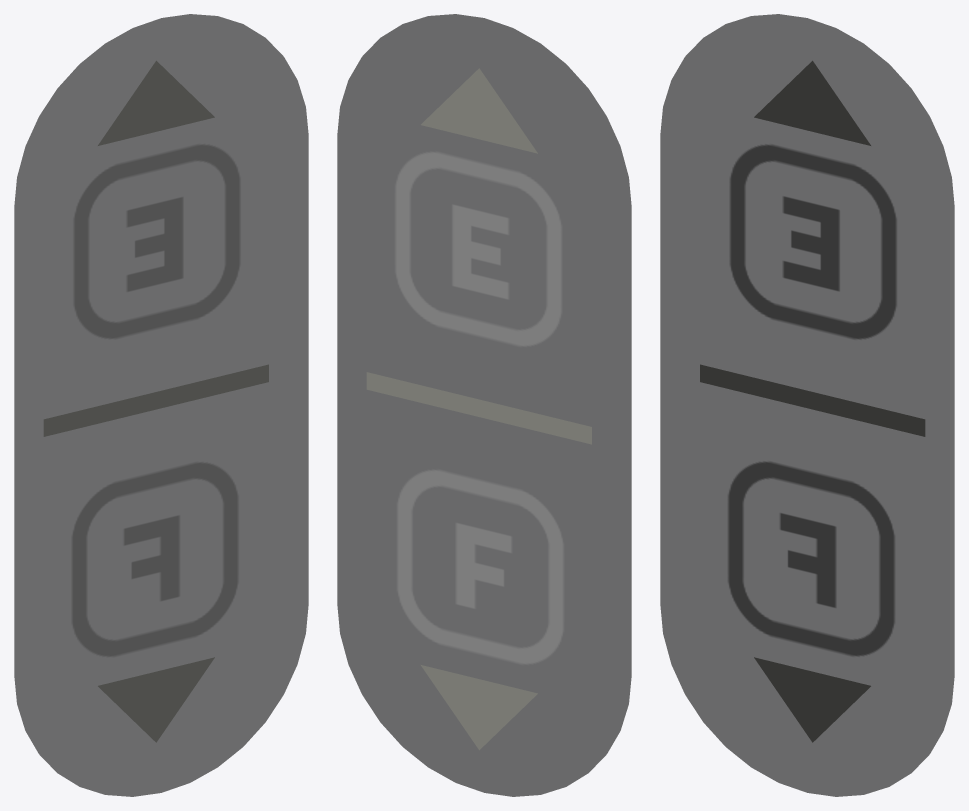
Rendered from scroll_instructions.glb.
3 renders of one model, left to right at view 1: azimuth 30°, elevation 25°; view 2: azimuth 150°, elevation 25°; view 3: azimuth 330°, elevation 25°, orthographic.
Parts seen in each view (by area): view 1: Cylinder.003, Plane.002; view 2: Cylinder.003, Plane.002; view 3: Cylinder.003, Plane.002.
Boxes of the visible parts, <box> form: Cylinder.003: <box>14,14,308,796</box>; Plane.002: <box>44,61,268,742</box>; Cylinder.003: <box>337,14,631,796</box>; Plane.002: <box>366,68,591,750</box>; Cylinder.003: <box>660,14,954,796</box>; Plane.002: <box>700,61,924,742</box>.
Size of the model in its own units: 0.546 by 1.37 by 0.0166.
Materials: 2 (1 with a texture image).
